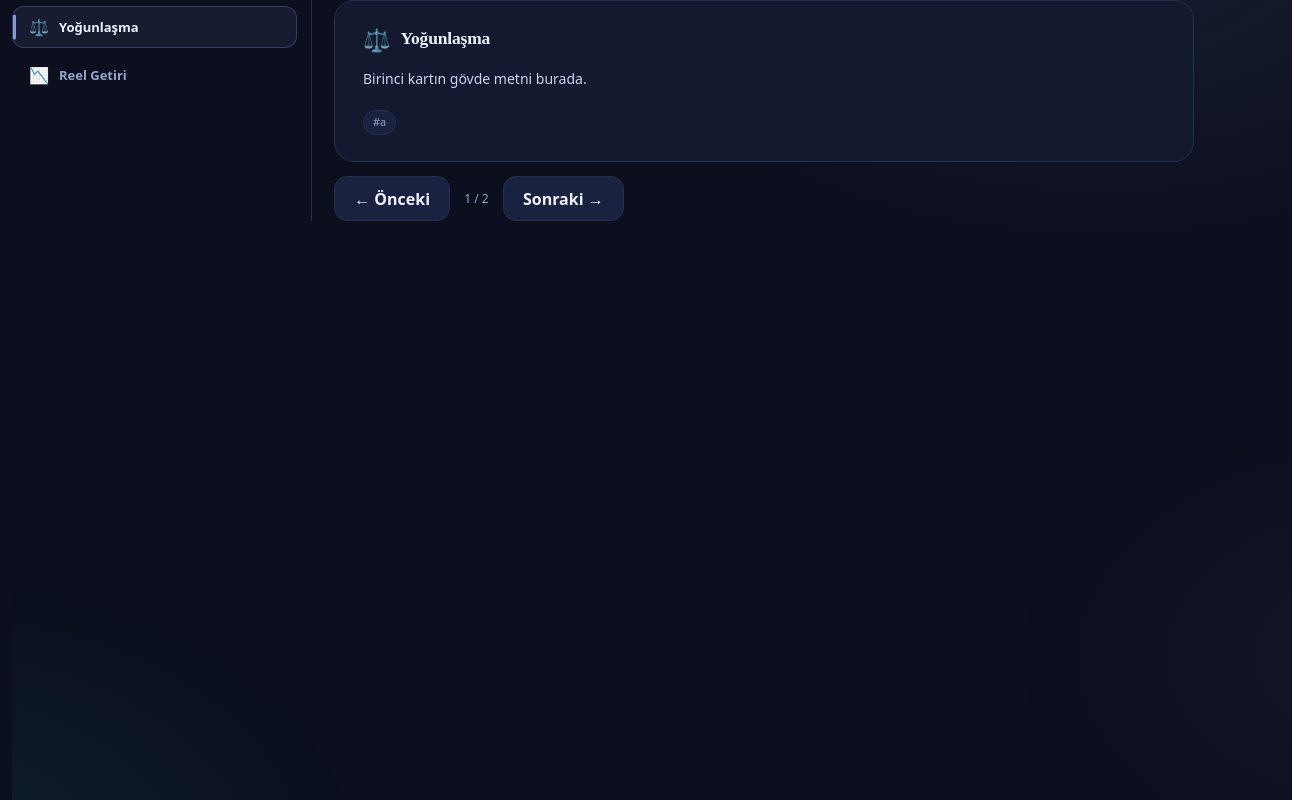
Test: CommentaryTabs (T4.5) — dikey ray (geniş ekran) › önceki/sonraki butonlarıyla gezilir; uçlarda devre dışı kalır
Expected: the button "← Önceki" is disabled, [334, 176, 450, 221]
Step 1. Click the button "Sonraki →" → (563,198), box [503, 176, 624, 221]
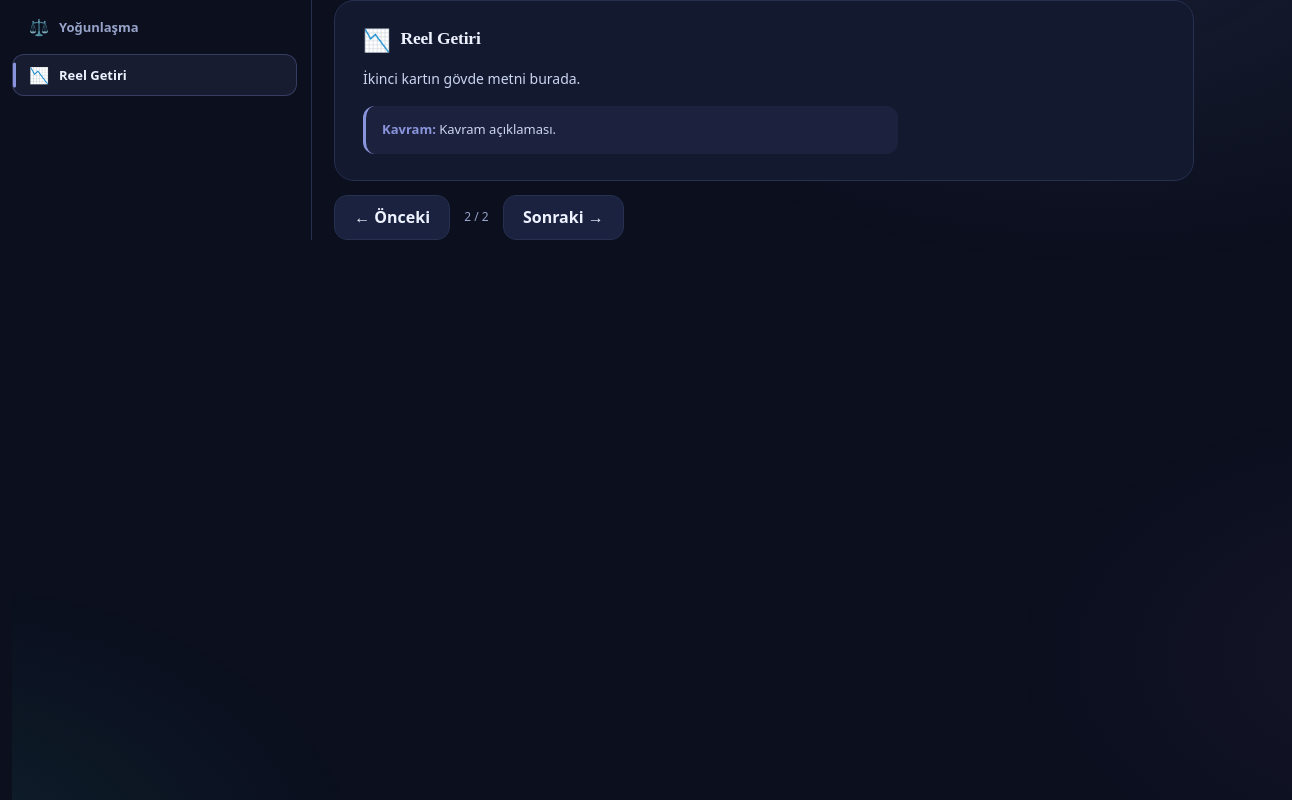
Expected: the text "İkinci kartın gövde metni burada." is shown, [363, 69, 580, 88]
Expected: the button "Sonraki →" is disabled, [503, 195, 624, 240]
Expected: the button "← Önceki" is enabled, [334, 195, 450, 240]
